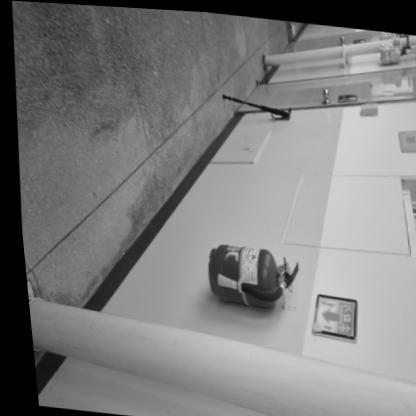FE: (197, 239, 299, 310)
